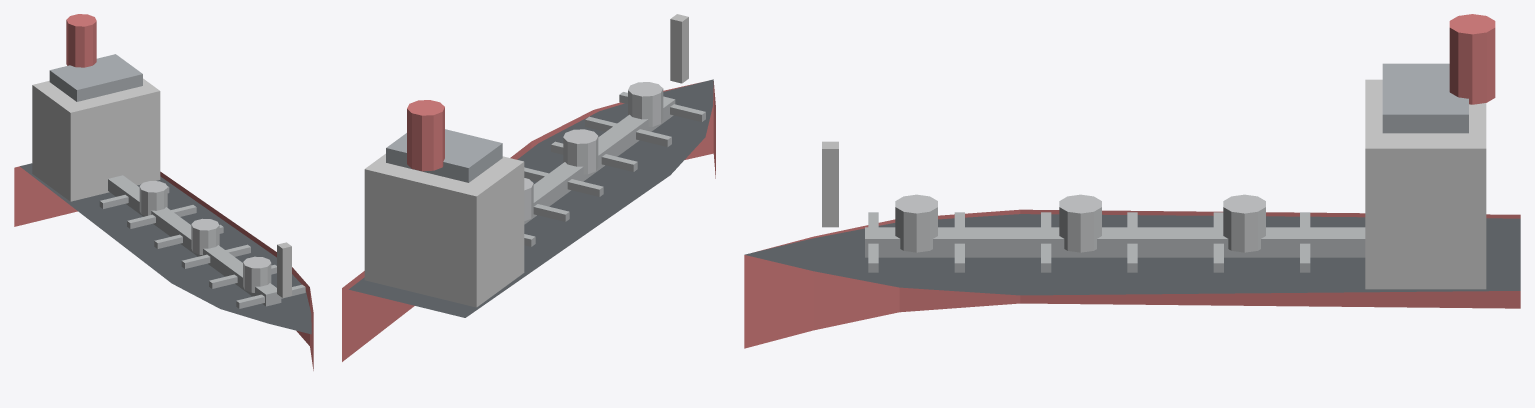
File: tanker_leaking.glb
3 views of the same model, side by side, from view 1: azimuth 30°, elevation 25°; view 2: azimuth 150°, elevation 25°; view 3: azimuth 270°, elevation 25° (orthographic). The views are drawn at different scales.
Size of the model in its own units: 86.8 by 145 by 315.
